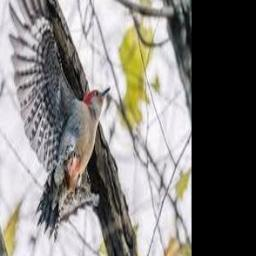Woodpecker: (9, 0, 110, 239)
